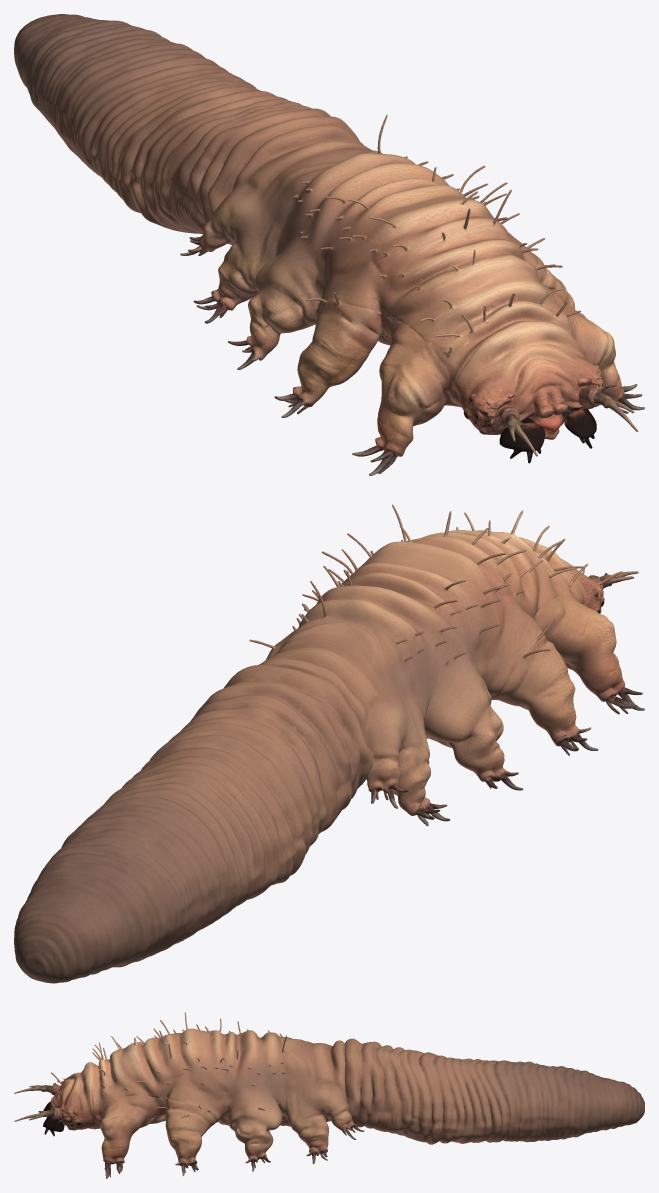
Rendered from demodex.glb.
The picture shows the model from 3 angles, top to bottom: view 1: azimuth 30°, elevation 25°; view 2: azimuth 150°, elevation 25°; view 3: azimuth 270°, elevation 25°; orthographic projection. The views are drawn at different scales.
Visible parts, largest first — view 1: mesh_node; view 2: mesh_node; view 3: mesh_node.
Part boxes in pixels (x1,y1,x2,y2): mesh_node: [14, 14, 644, 475]; mesh_node: [14, 504, 644, 983]; mesh_node: [14, 1012, 644, 1178].
Size of the model in its own units: 0.6301 by 0.3938 by 1.91.
Materials: 1 (1 with a texture image).
